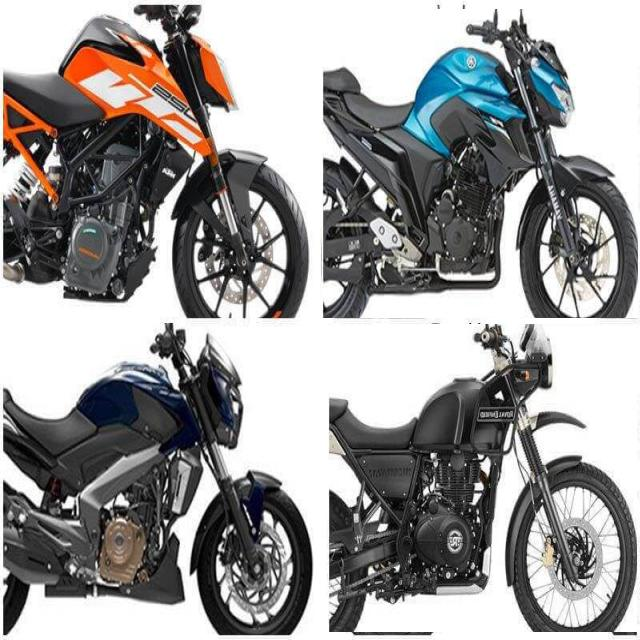motorcycle: (322, 10, 638, 318), (329, 324, 637, 632), (4, 6, 308, 317), (4, 325, 310, 633)
